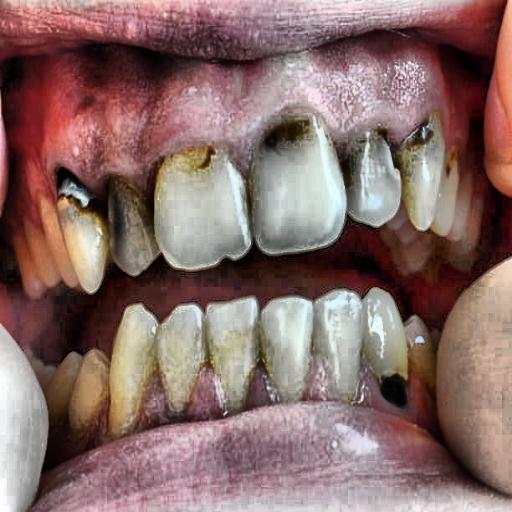Calculus: (39, 100, 493, 266), (78, 314, 438, 471)
